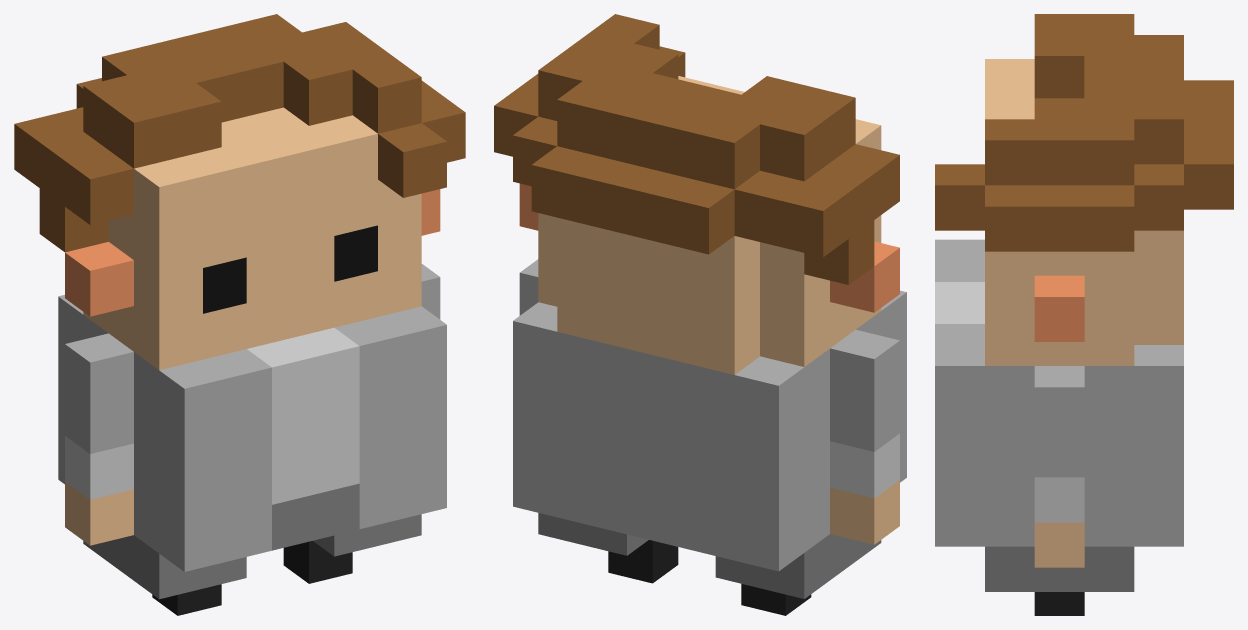
The model's file is chr_suit4.obj.
3 views of the same model, side by side, from view 1: azimuth 30°, elevation 25°; view 2: azimuth 150°, elevation 25°; view 3: azimuth 270°, elevation 25° (orthographic). The views are drawn at different scales.
Bounding box in the file's own units: 0.8 × 1.1 × 0.6.
1 material, 1 textured.
